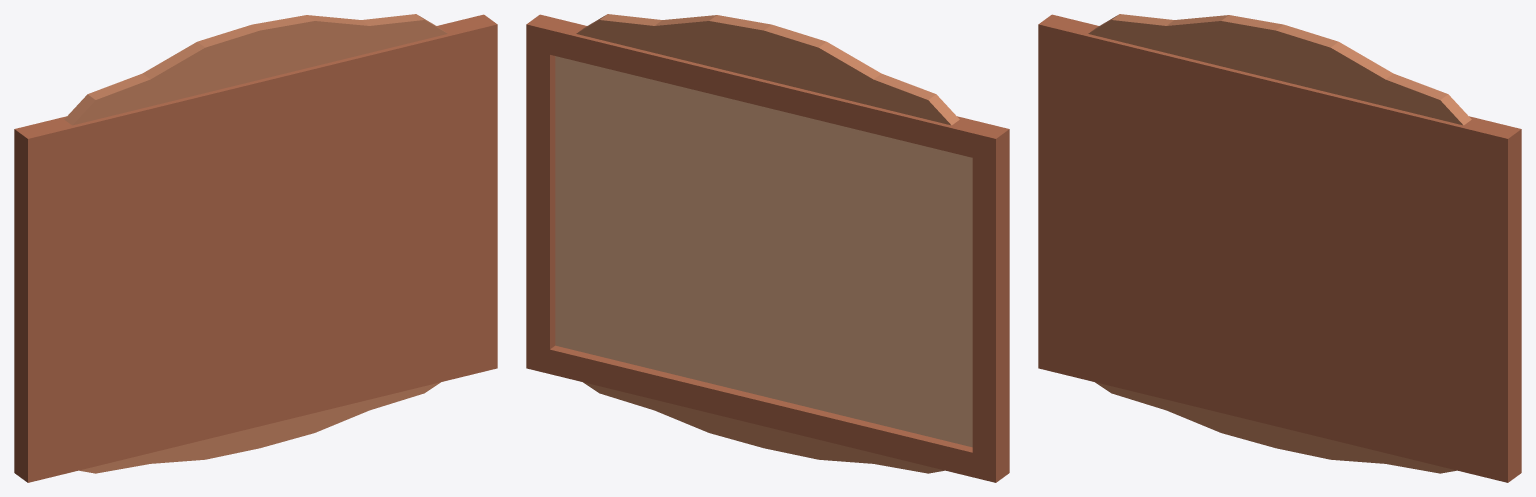
The model's file is Board.fbx.
The picture shows the model from 3 angles, left to right: view 1: azimuth 30°, elevation 25°; view 2: azimuth 150°, elevation 25°; view 3: azimuth 330°, elevation 25°; orthographic projection.
Visible parts, largest first — view 1: Board; view 2: Board; view 3: Board.
Part boxes in pixels (x1,y1,x2,y2): Board: (14, 14, 497, 482); Board: (526, 14, 1009, 482); Board: (1038, 14, 1521, 482).
Bounding box in the file's own units: 1 × 0.05 × 0.85.
